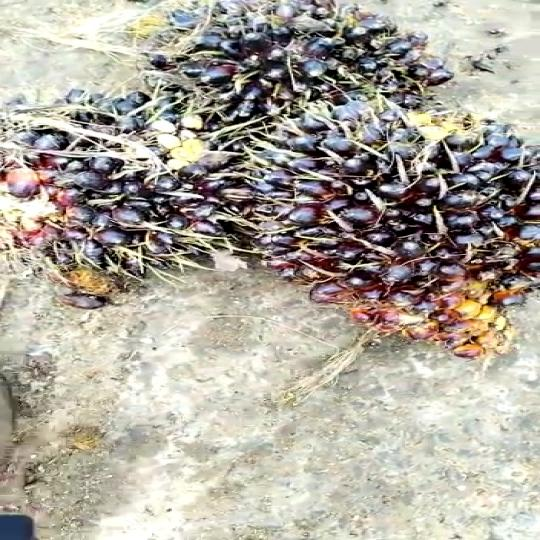mentah: (268, 116, 540, 378), (0, 62, 255, 265), (113, 0, 460, 115)
